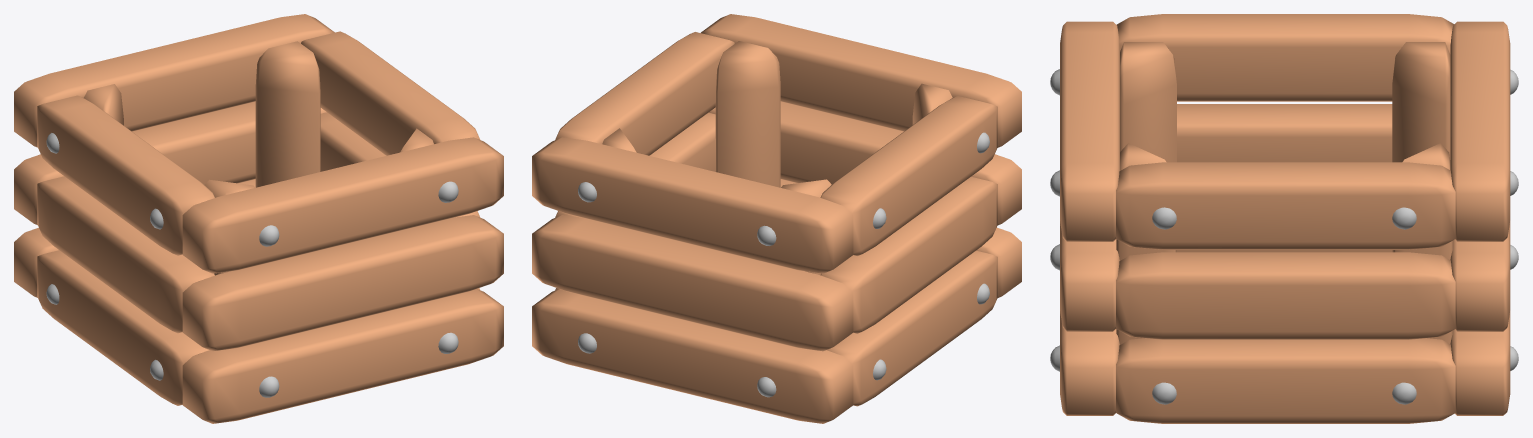
The model's file is sebze kasasç.fbx.
The picture shows the model from 3 angles, left to right: view 1: azimuth 30°, elevation 25°; view 2: azimuth 150°, elevation 25°; view 3: azimuth 270°, elevation 25°; orthographic projection. The views are drawn at different scales.
Visible parts, largest first — view 1: Cube.037; view 2: Cube.037; view 3: Cube.037.
Part boxes in pixels (<box>): Cube.037: <box>14,14,503,423</box>; Cube.037: <box>532,14,1021,423</box>; Cube.037: <box>1050,14,1518,423</box>.
Bounding box in the file's own units: 97.32 × 61.06 × 107.
